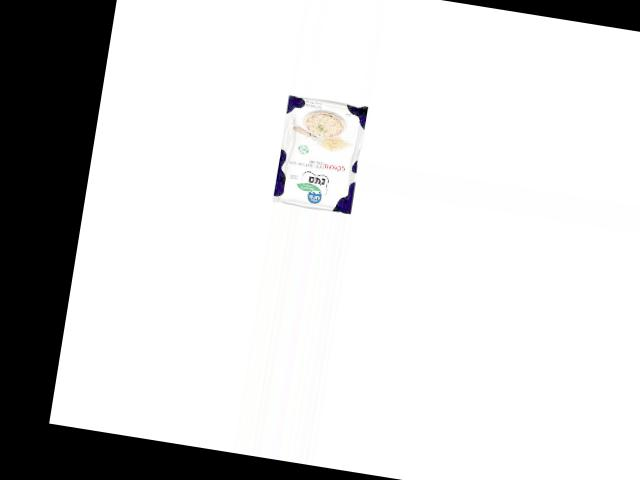cheese: (270, 91, 371, 215)
